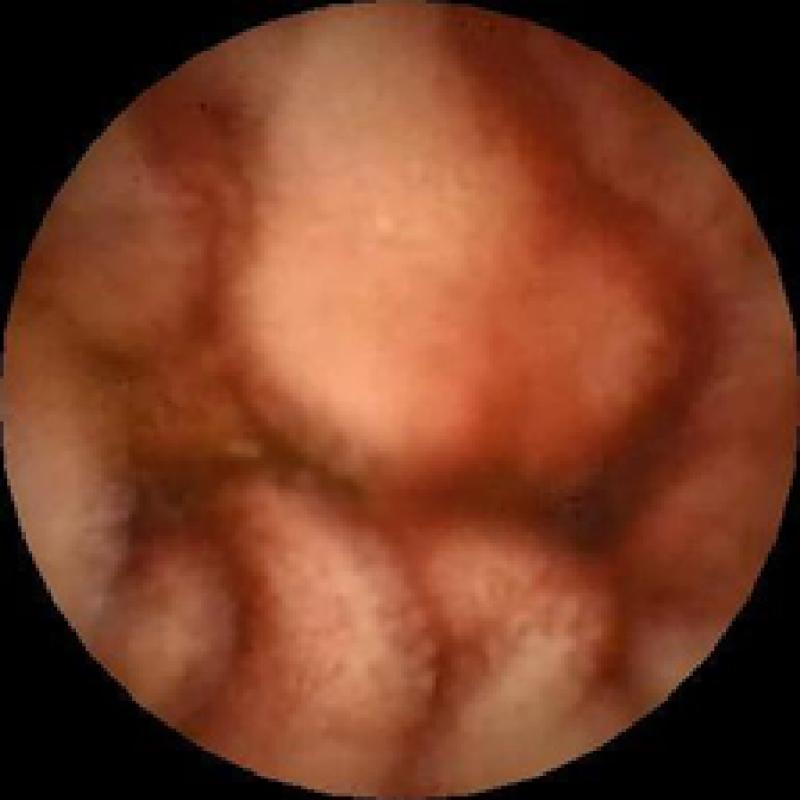bleeding: (186, 36, 654, 736)
